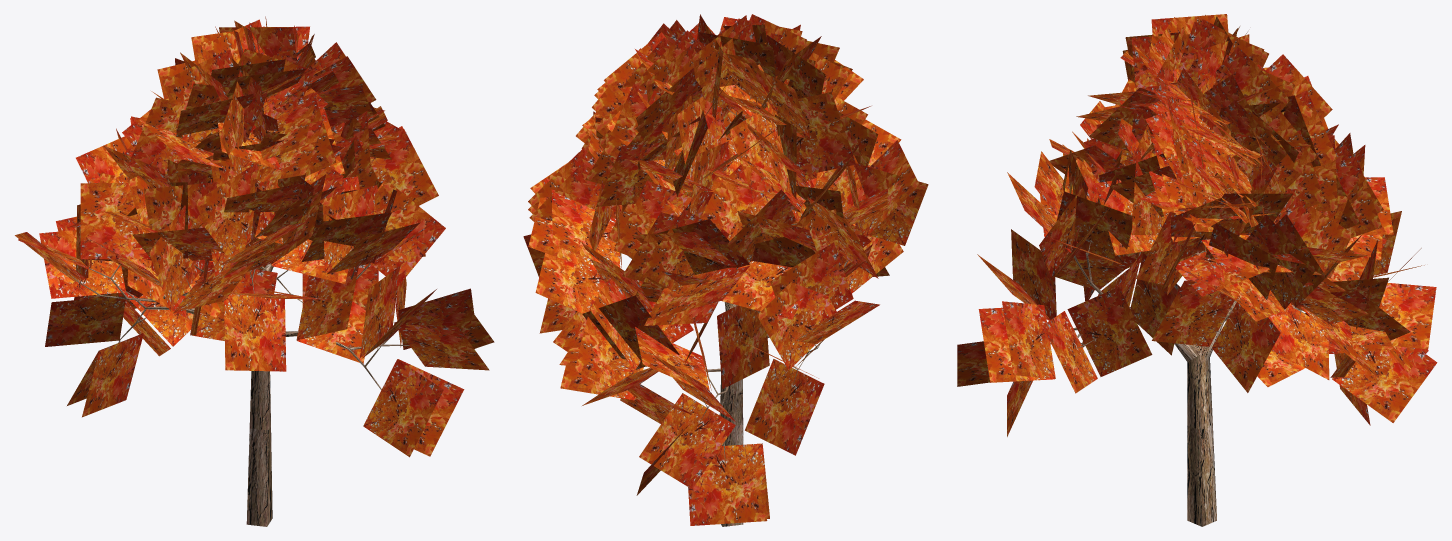
3 renders of one model, left to right at view 1: azimuth 30°, elevation 25°; view 2: azimuth 150°, elevation 25°; view 3: azimuth 270°, elevation 25°, orthographic. The views are drawn at different scales.
Visible parts, largest first — view 1: twig_013, tree_013; view 2: twig_013, tree_013; view 3: twig_013, tree_013.
Boxes of the visible parts, box(x1,y1,x2,y2) form: twig_013: box(15, 16, 494, 457); tree_013: box(67, 229, 409, 526); twig_013: box(523, 14, 928, 525); tree_013: box(606, 106, 868, 526); twig_013: box(957, 14, 1437, 436); tree_013: box(1025, 238, 1369, 526).
Bounding box in the file's own units: 11.5 × 13.05 × 14.81.
2 materials, 2 textured.
